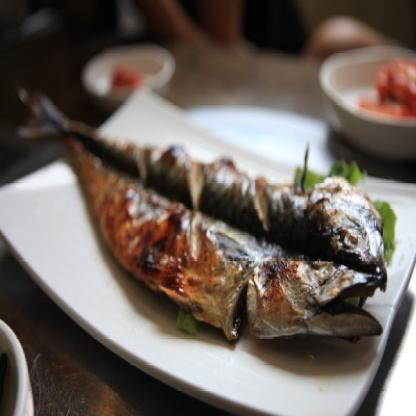Peixe: (0, 81, 386, 347)
